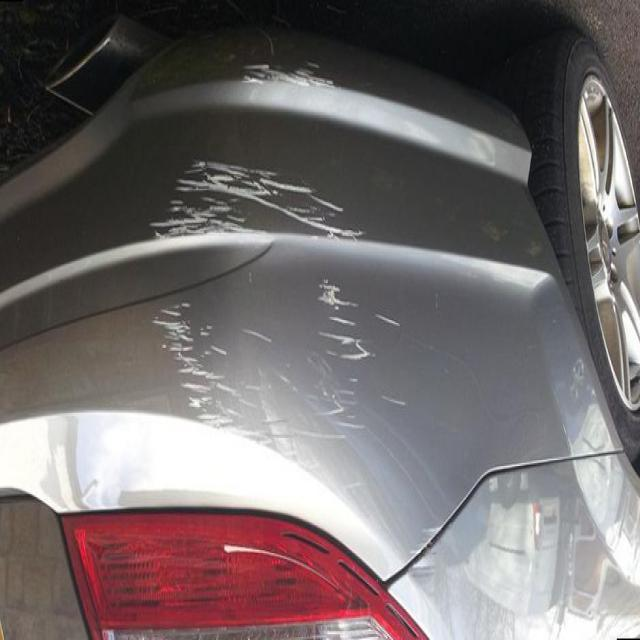scratch: (151, 152, 418, 500), (237, 35, 361, 130)
